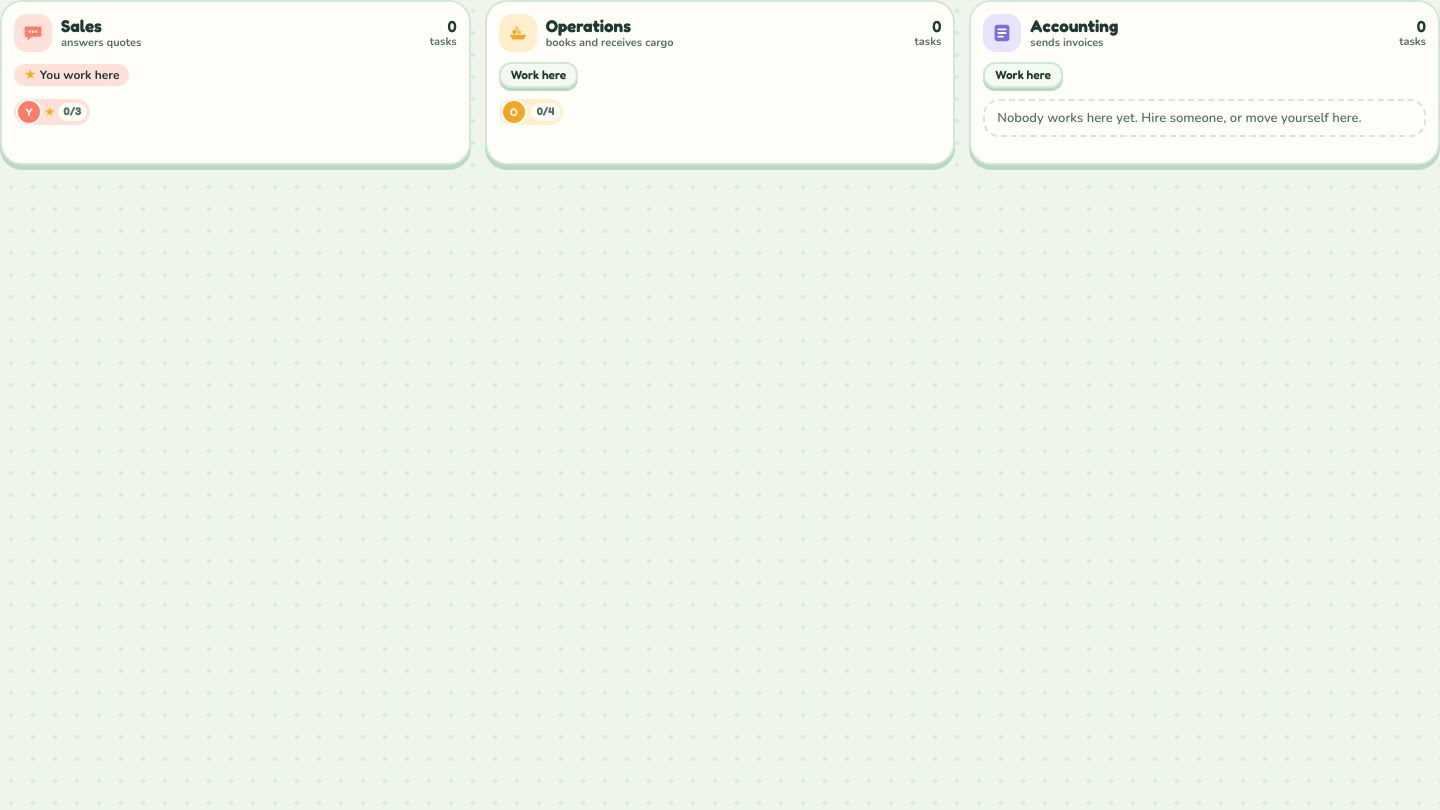
Test case: DepartmentBoard › a hired operator's stats show salary and no win rate
The width and height of the screenshot is (1440, 810).
Click the button named "Orrin Vale" at (531, 112), box [499,99,563,125]
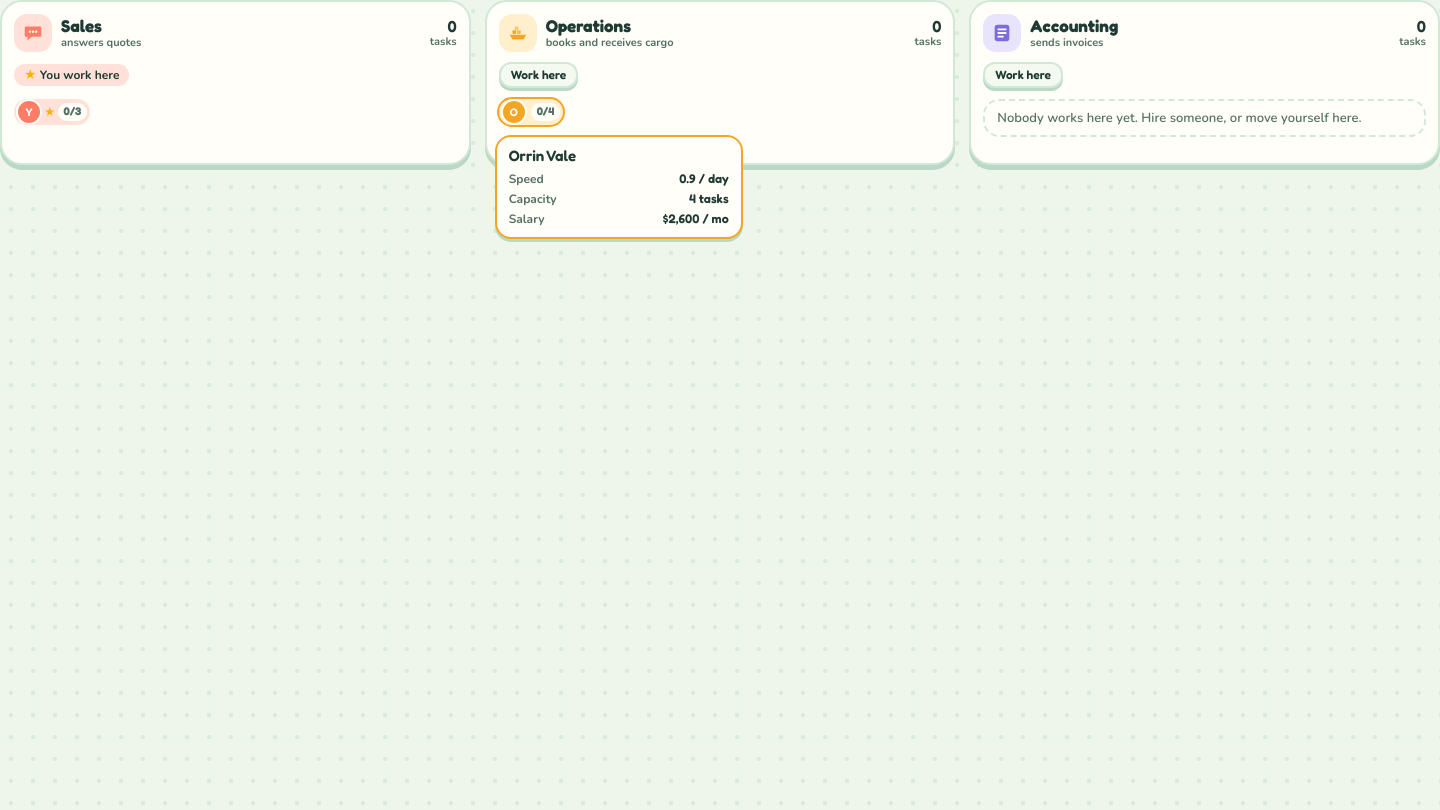
Result: the heading "Orrin Vale" is shown at [509,146,576,165]
Result: the text "0.9 / day" is shown at [679,171,729,186]
Result: the text "4 tasks" is shown at [689,191,729,206]
Click the button named "Orrin Vale" at (531, 112), box [499,99,563,125]
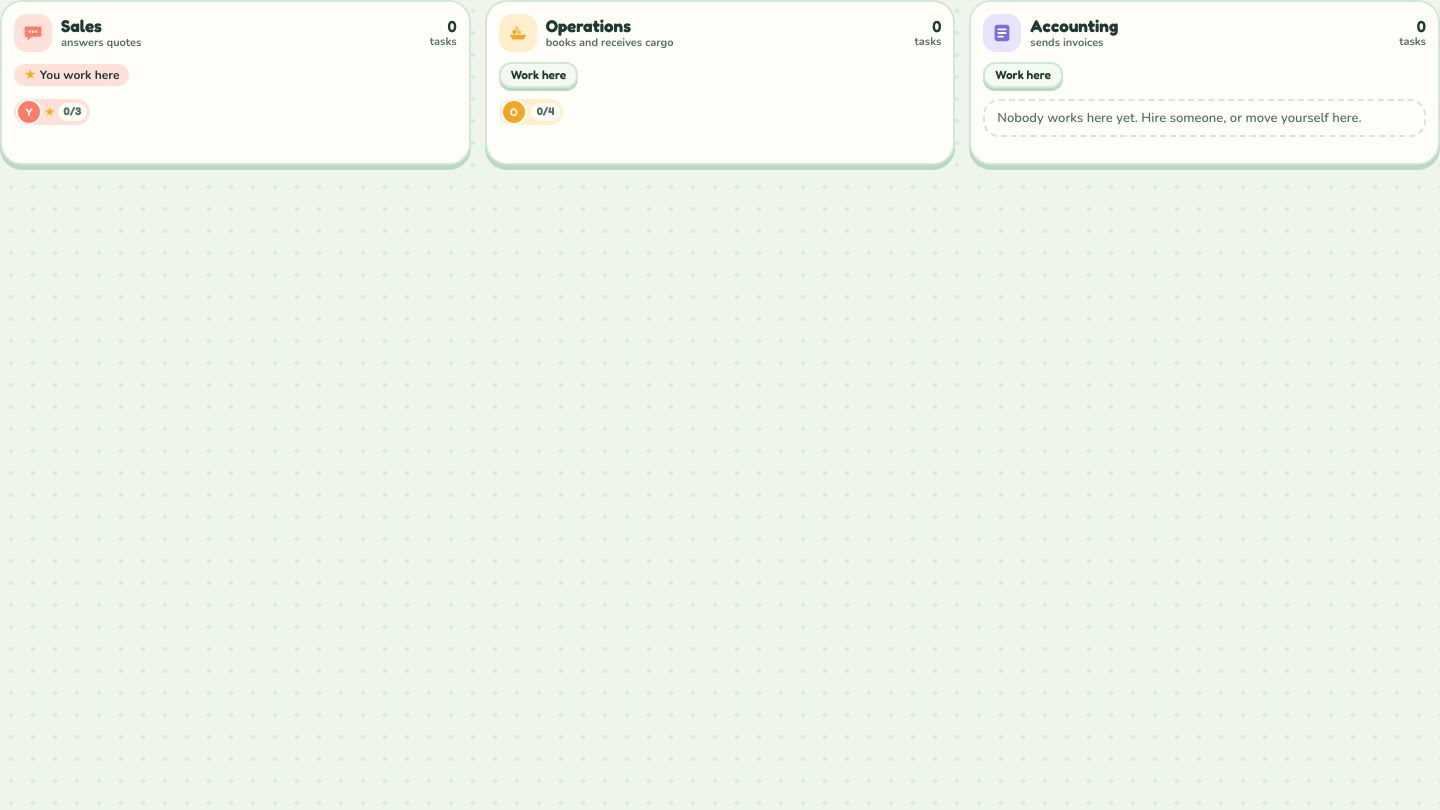
Result: the button named "Orrin Vale" is collapsed at [499,99,563,125]
